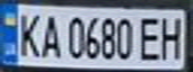0: (115, 15, 139, 61), (63, 12, 84, 60)
6: (81, 12, 103, 61)
8: (100, 14, 118, 61)
A: (36, 10, 63, 60)
E: (136, 14, 163, 62)
H: (157, 12, 187, 61)
K: (12, 9, 42, 58)
